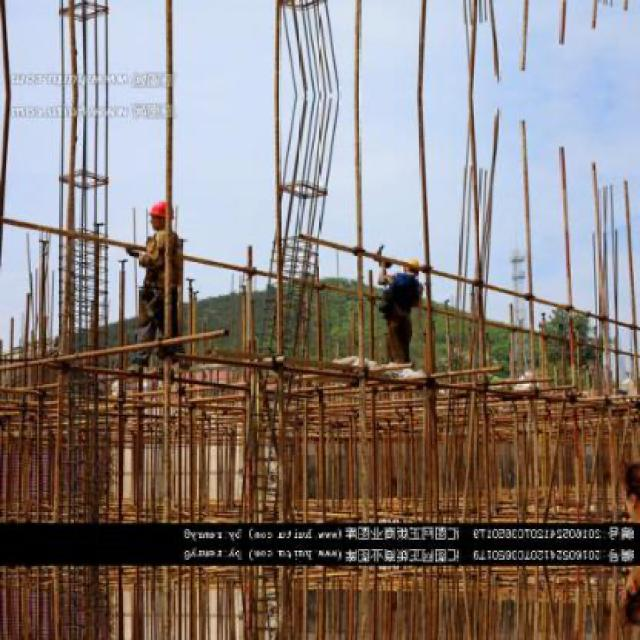con casco: (119, 195, 203, 258), (387, 248, 443, 286)
